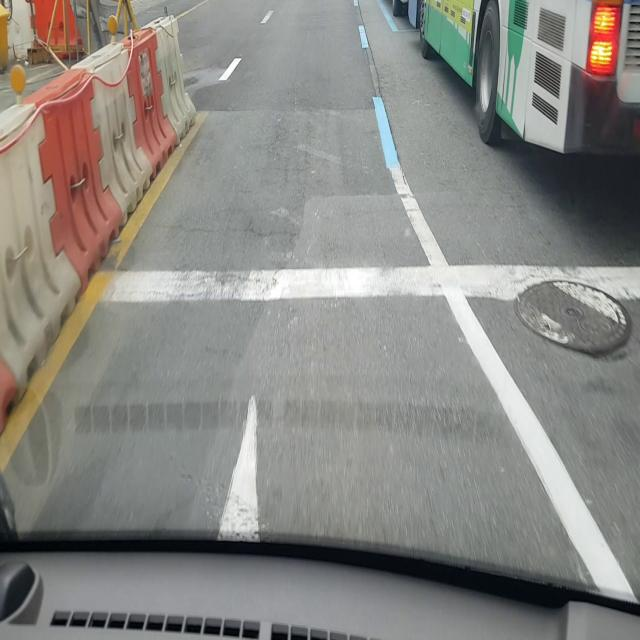Pothole: (512, 277, 636, 364)
